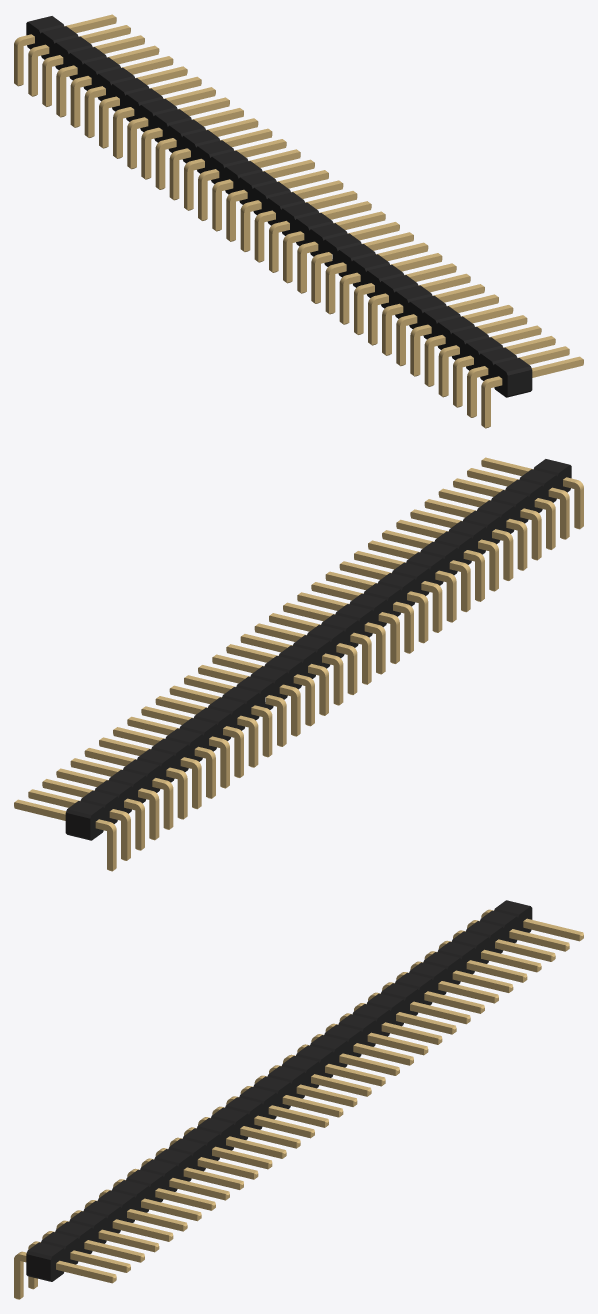
Rendered from kc-pinheader_1x34_p2.54mm_horizontal.glb.
3 renders of one model, top to bottom at view 1: azimuth 30°, elevation 25°; view 2: azimuth 150°, elevation 25°; view 3: azimuth 330°, elevation 25°, orthographic.
Visible parts, largest first — view 1: 0.75_0.5_0.25_0.9, 0_0_0_0; view 2: 0.75_0.5_0.25_0.9, 0_0_0_0; view 3: 0.75_0.5_0.25_0.9, 0_0_0_0.
Part boxes in pixels (left/top/right/bottom): 0.75_0.5_0.25_0.9: left=14, top=14, right=583, bottom=428; 0_0_0_0: left=26, top=16, right=532, bottom=397; 0.75_0.5_0.25_0.9: left=14, top=457, right=583, bottom=871; 0_0_0_0: left=65, top=459, right=571, bottom=840; 0.75_0.5_0.25_0.9: left=14, top=909, right=583, bottom=1299; 0_0_0_0: left=26, top=900, right=532, bottom=1281.
Bounding box in the file's own units: 1.04 × 0.5539 × 8.64.
